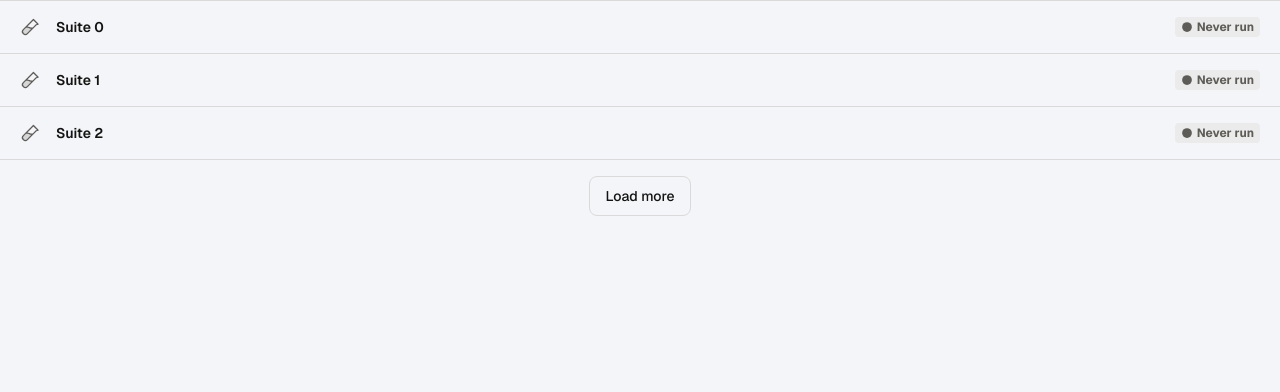
Test: SuiteListResults loading more › the load more button › keeps the rows and offers a retry when the next page fails, then repeats that page
This screenshot has width=1280, height=392.
Click the button "Load more". click: x=640, y=196
box: [588, 176, 692, 216]
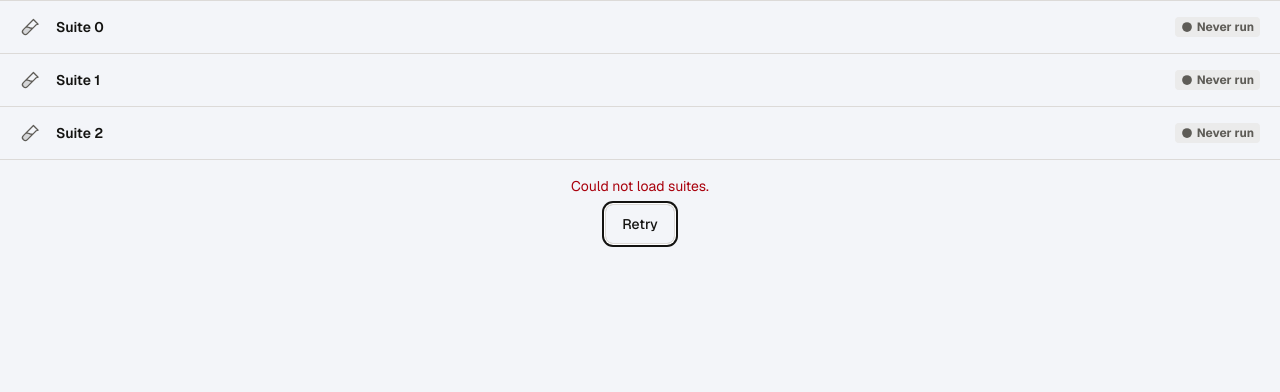
Check: the message reads "Could not load suites.", box [571, 177, 709, 195]
Check: the button "Load more" is gone
Click the button "Retry". click: x=640, y=224
box: [605, 204, 675, 244]
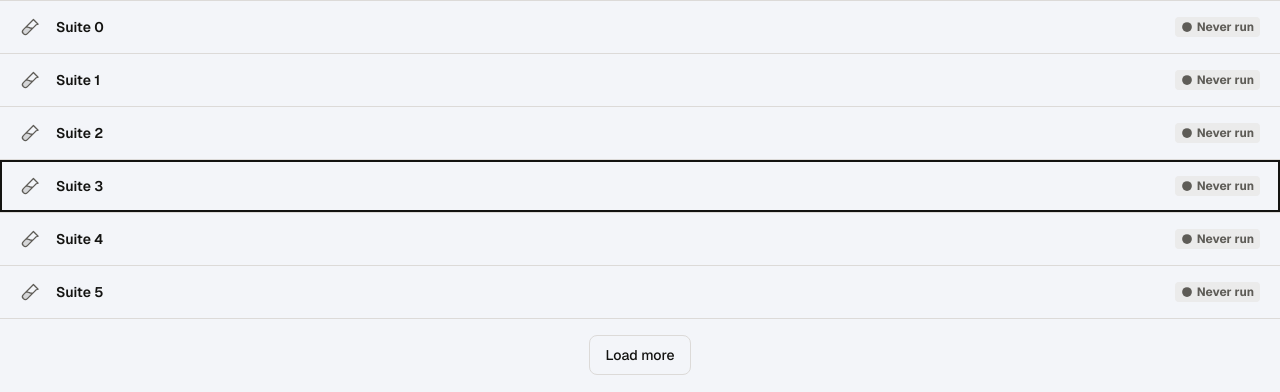
Check: the element with test id "suite-row-s5" is shown, box [20, 280, 1260, 304]
Check: the message "Could not load suites." is gone
